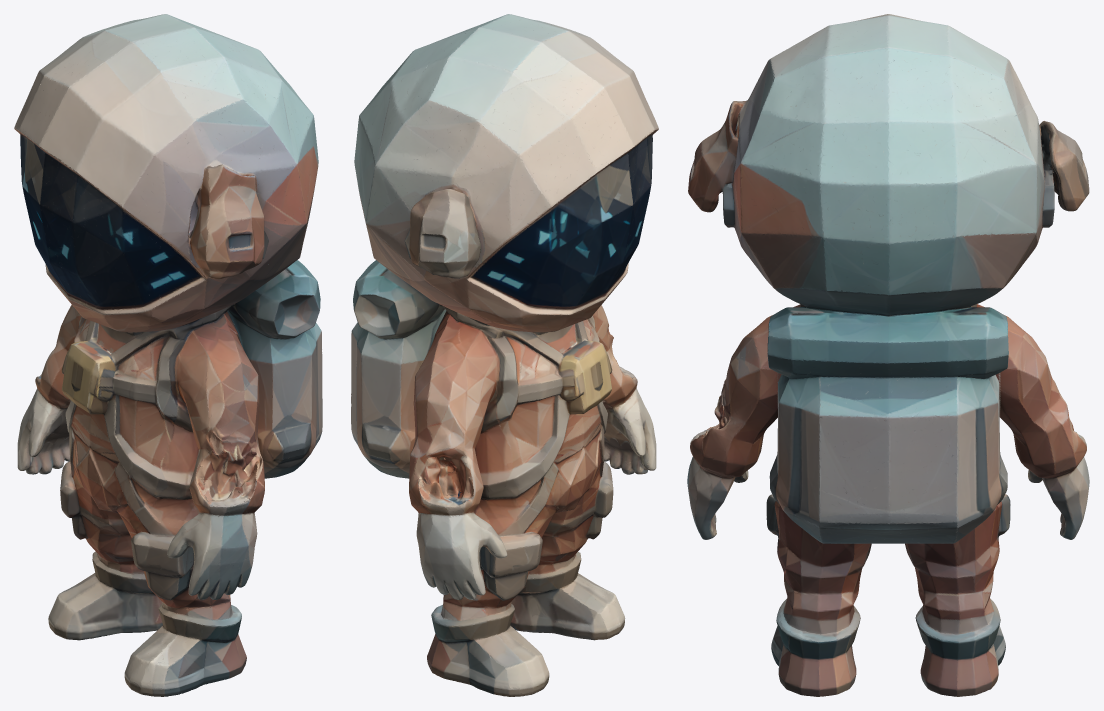
Rendered from player.fbx.
The picture shows the model from 3 angles, left to right: view 1: azimuth 30°, elevation 25°; view 2: azimuth 150°, elevation 25°; view 3: azimuth 270°, elevation 25°; orthographic projection. The views are drawn at different scales.
Visible parts, largest first — view 1: input; view 2: input; view 3: input.
Part boxes in pixels (x1,y1,x2,y2): input: (14,14,322,696); input: (351,14,658,696); input: (687,14,1089,696).
Bounding box in the file's own units: 77.43 × 175 × 99.1.
Materials: 1 (1 with a texture image).
